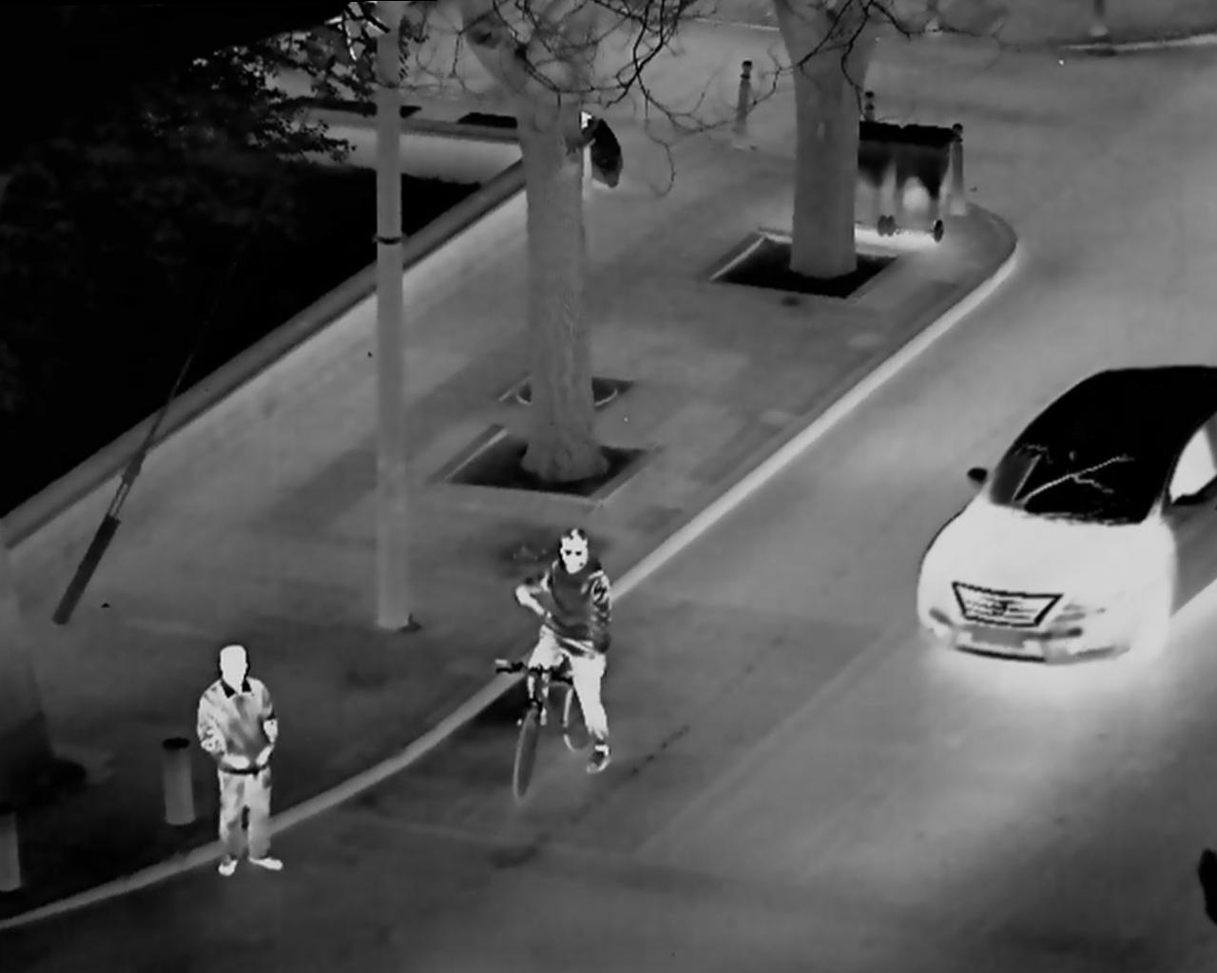person: (506, 519, 621, 804), (186, 629, 308, 885)
